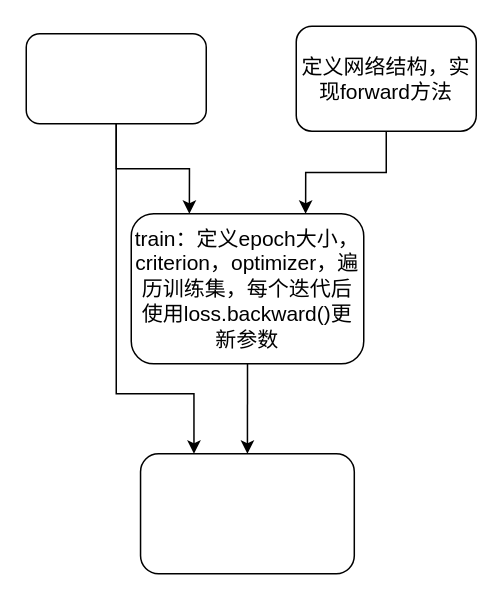
The diagram is 503 pixels wide and 600 high, and some of its shapes have lost their labels. The box of each missing label's shape, as (x1, y1, x2, y2) in pixels:
test：使用训练好的模型在测试集上进行测试，输出准确率: (139, 452, 354, 574)
加载数据到 trainloader与testloader: (25, 32, 206, 124)
